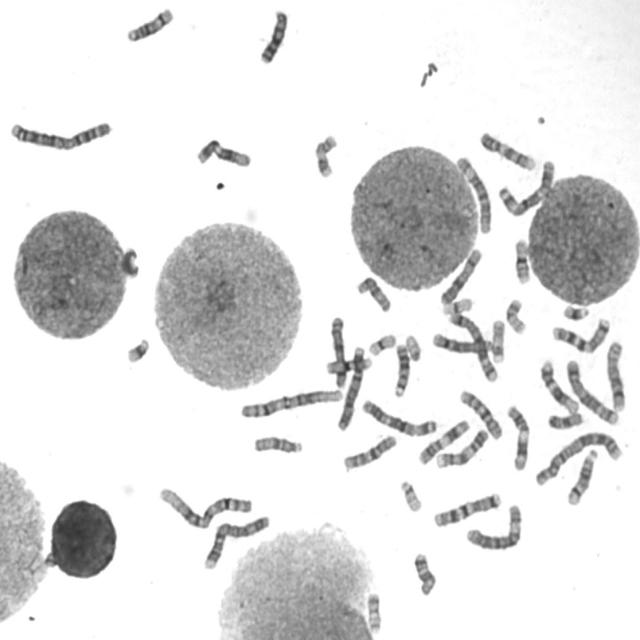A1: (155, 482, 253, 530), (237, 384, 344, 420)
A2: (532, 427, 624, 488), (5, 114, 115, 152)
A3: (495, 155, 558, 219), (358, 394, 439, 438)
B4: (200, 512, 271, 571), (333, 341, 368, 432)
B5: (563, 356, 620, 427), (445, 310, 500, 383)
C10: (456, 386, 504, 441), (340, 431, 399, 472)
C11: (415, 416, 471, 466), (504, 401, 531, 472)
C12: (537, 356, 581, 416), (193, 136, 253, 170)
C6: (453, 152, 494, 236), (462, 500, 524, 552)
C7: (430, 488, 504, 528), (549, 314, 612, 355)
C8: (603, 337, 628, 414), (429, 328, 497, 355)
C9: (477, 128, 538, 172), (432, 426, 490, 470)
D13: (257, 5, 290, 66), (391, 340, 411, 399)
D14: (564, 445, 600, 507), (124, 4, 176, 44)
D15: (354, 272, 393, 314), (251, 432, 305, 456)
E16: (510, 234, 532, 286), (322, 353, 374, 375)
E17: (311, 130, 339, 180), (489, 316, 506, 365)
E18: (410, 549, 438, 597), (545, 409, 585, 431)
F19: (365, 330, 398, 357), (440, 294, 474, 316)
F20: (502, 296, 528, 336), (364, 589, 384, 635)
G21: (123, 334, 151, 364), (560, 302, 592, 322)
G22: (397, 477, 423, 513), (403, 331, 423, 363)
X: (437, 245, 484, 308), (328, 312, 348, 390)
